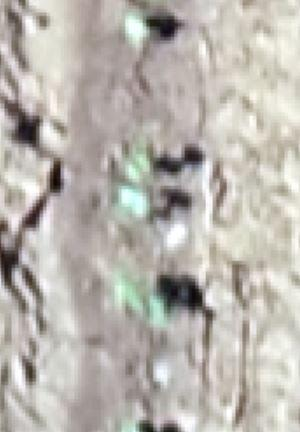cotton: (118, 279, 165, 318), (121, 188, 151, 214), (122, 147, 149, 174), (128, 17, 149, 39), (122, 422, 140, 432)
